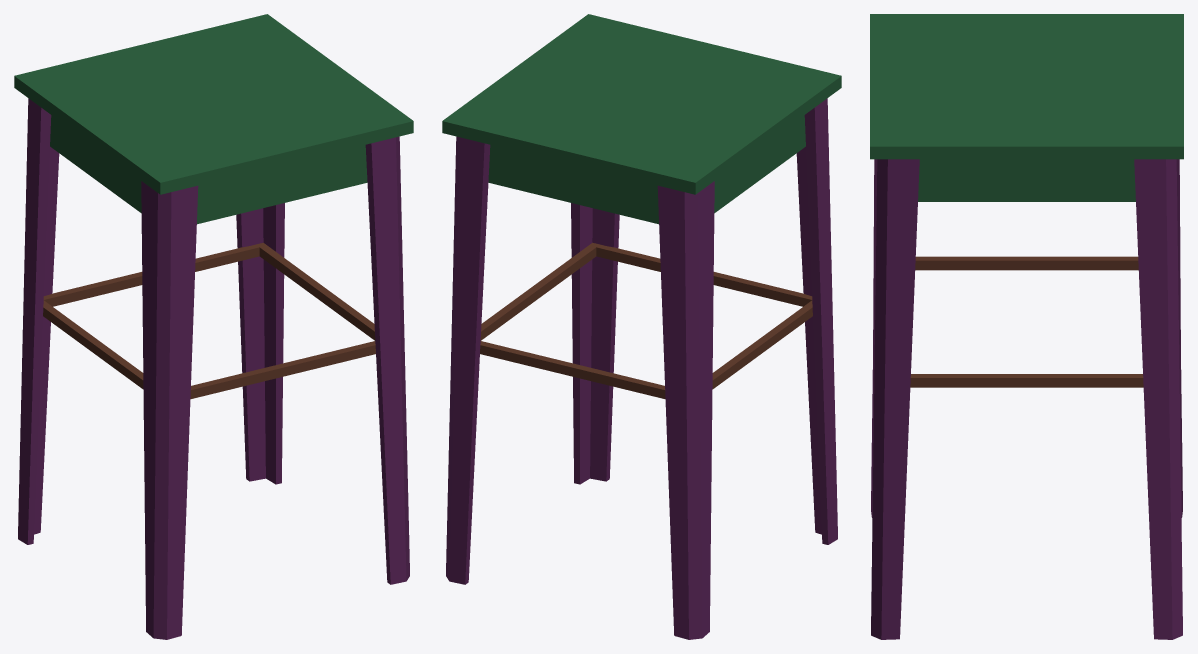
File: SM_Tabouret.fbx
3 renders of one model, left to right at view 1: azimuth 30°, elevation 25°; view 2: azimuth 150°, elevation 25°; view 3: azimuth 270°, elevation 25°, orthographic. The views are drawn at different scales.
Visible parts, largest first — view 1: Tabouret; view 2: Tabouret; view 3: Tabouret.
Part boxes in pixels (left/top/right/bottom): Tabouret: left=14, top=14, right=413, bottom=639; Tabouret: left=442, top=14, right=841, bottom=639; Tabouret: left=870, top=14, right=1183, bottom=639.
Bounding box in the file's own units: 30.17 × 51.57 × 29.79.
